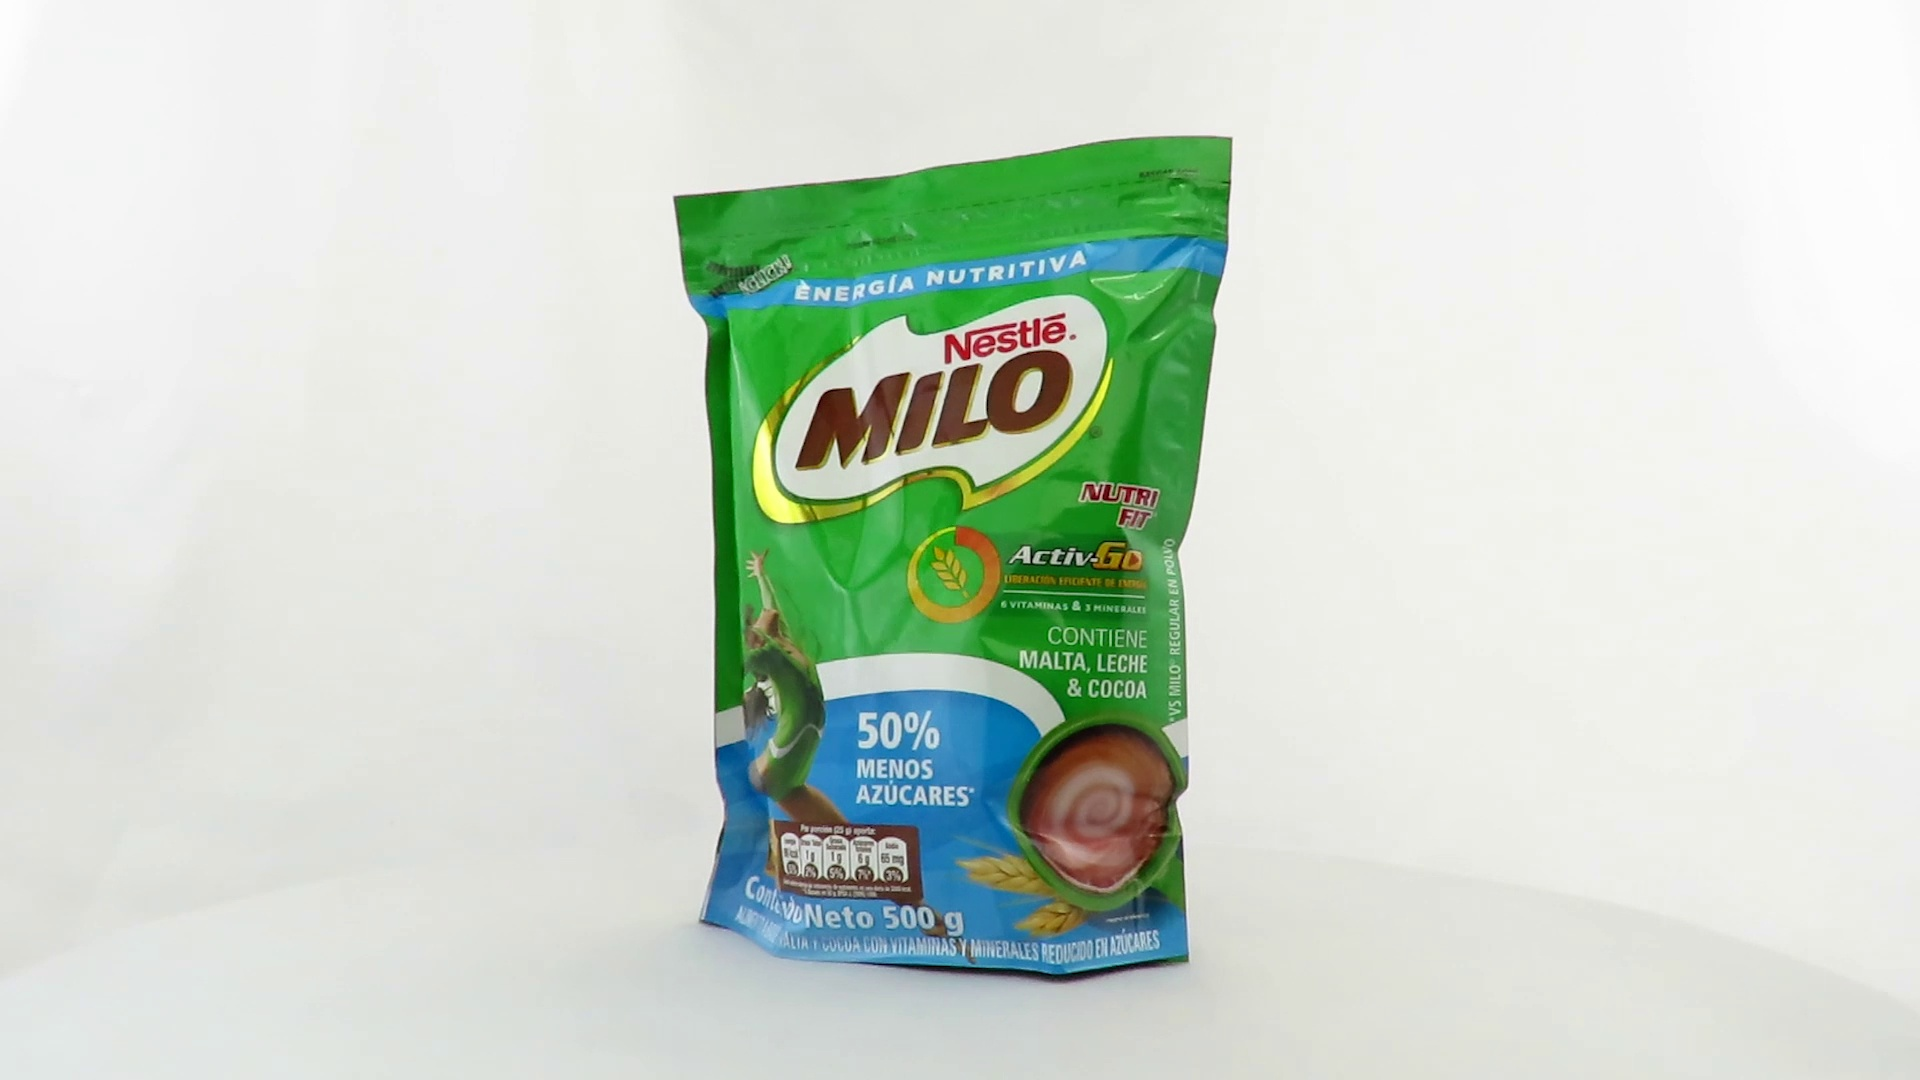COL0170205DYP50000: (669, 131, 1240, 990)
